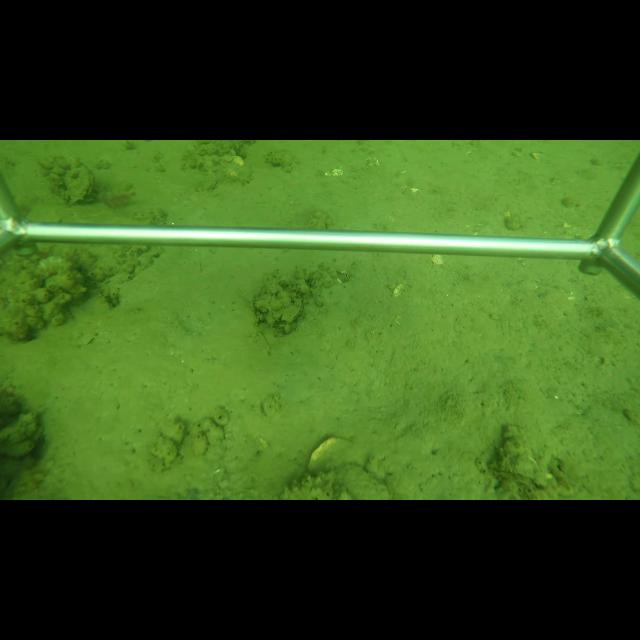Oyster-Closed: (322, 463, 396, 499), (304, 435, 356, 472), (279, 291, 308, 326)
Oyster-Open: (61, 162, 97, 209)
